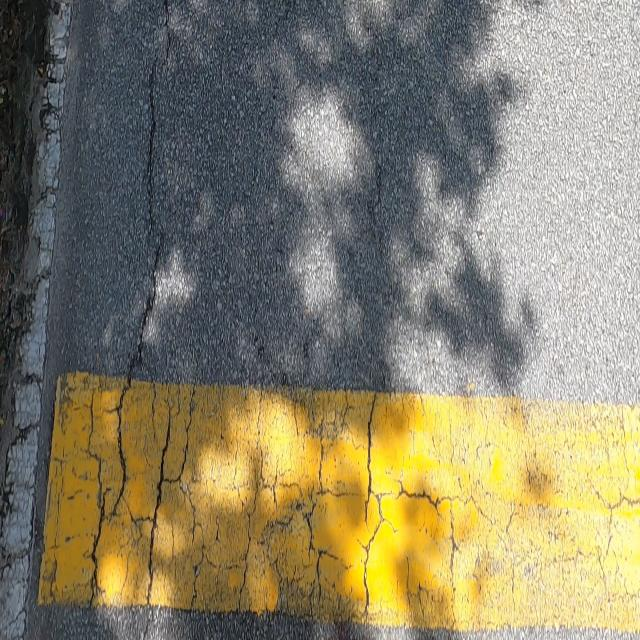Retak-Buaya: (177, 380, 640, 626)
Retak-Memanjang: (108, 5, 180, 525), (81, 378, 111, 609), (142, 403, 175, 609)
